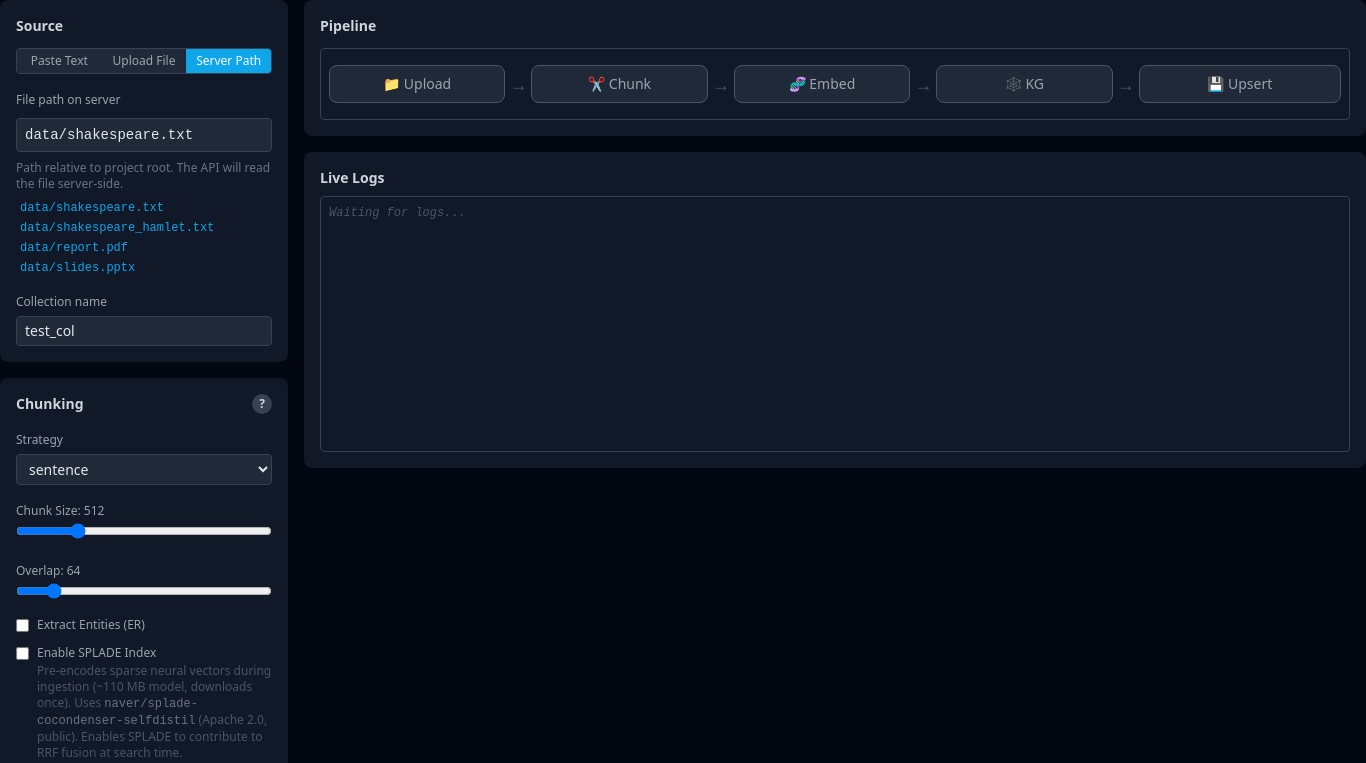
IngestionStudio — file input accept attribute › accepts .pdf in the file input
The image size is (1366, 763).
# Switch to Upload File mode
Click the button "Upload File" at (144, 61), box top-left (102, 49), bottom-right (186, 73)
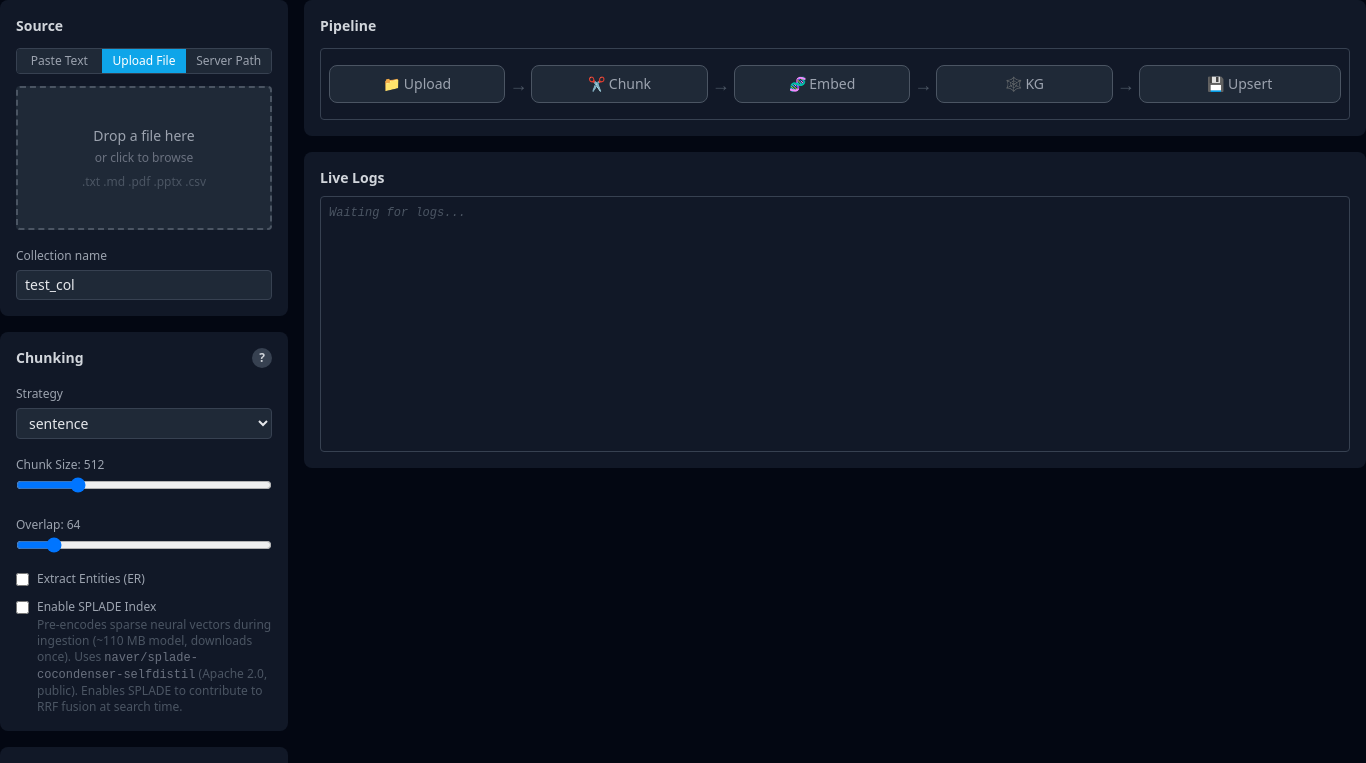
Expected: the element showing "Drop a file here or click to browse .txt .md .pdf .pptx .csv" is shown, top-left (16, 86), bottom-right (272, 230)
